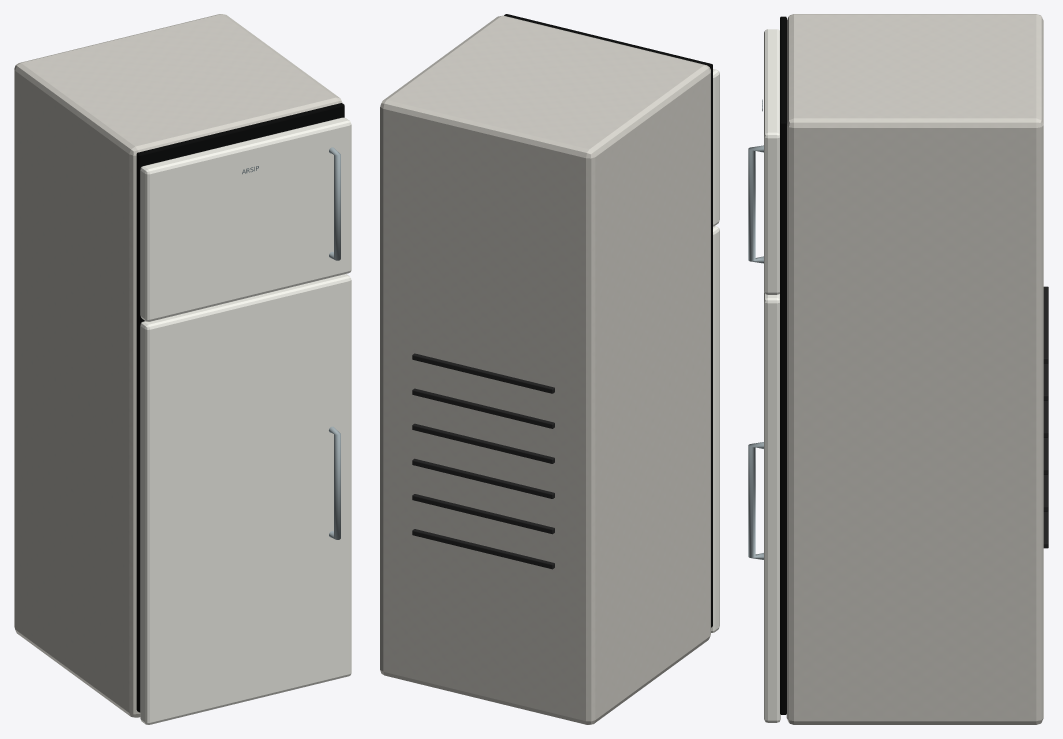
File: OAA_Pantry_Kulkas.fbx
3 views of the same model, side by side, from view 1: azimuth 30°, elevation 25°; view 2: azimuth 150°, elevation 25°; view 3: azimuth 270°, elevation 25° (orthographic). The views are drawn at different scales.
Parts seen in each view (by area): view 1: Body, Fridge_Door_Hinge.003_Mesh, Fridge_Door_Hinge.002_Mesh; view 2: Body, Fridge_Door_Hinge.003_Mesh, Fridge_Door_Hinge.002_Mesh; view 3: Body, Fridge_Door_Hinge.003_Mesh, Fridge_Door_Hinge.002_Mesh.
Part boxes in pixels (x1,y1,x2,y2): Body: [14, 14, 344, 717]; Fridge_Door_Hinge.003_Mesh: [140, 274, 351, 724]; Fridge_Door_Hinge.002_Mesh: [140, 117, 351, 321]; Body: [380, 14, 712, 724]; Fridge_Door_Hinge.003_Mesh: [711, 226, 719, 632]; Fridge_Door_Hinge.002_Mesh: [713, 69, 719, 226]; Body: [762, 14, 1048, 724]; Fridge_Door_Hinge.003_Mesh: [748, 292, 780, 722]; Fridge_Door_Hinge.002_Mesh: [748, 29, 779, 294].
Size of the model in its own units: 0.64 by 1.65 by 0.736.
